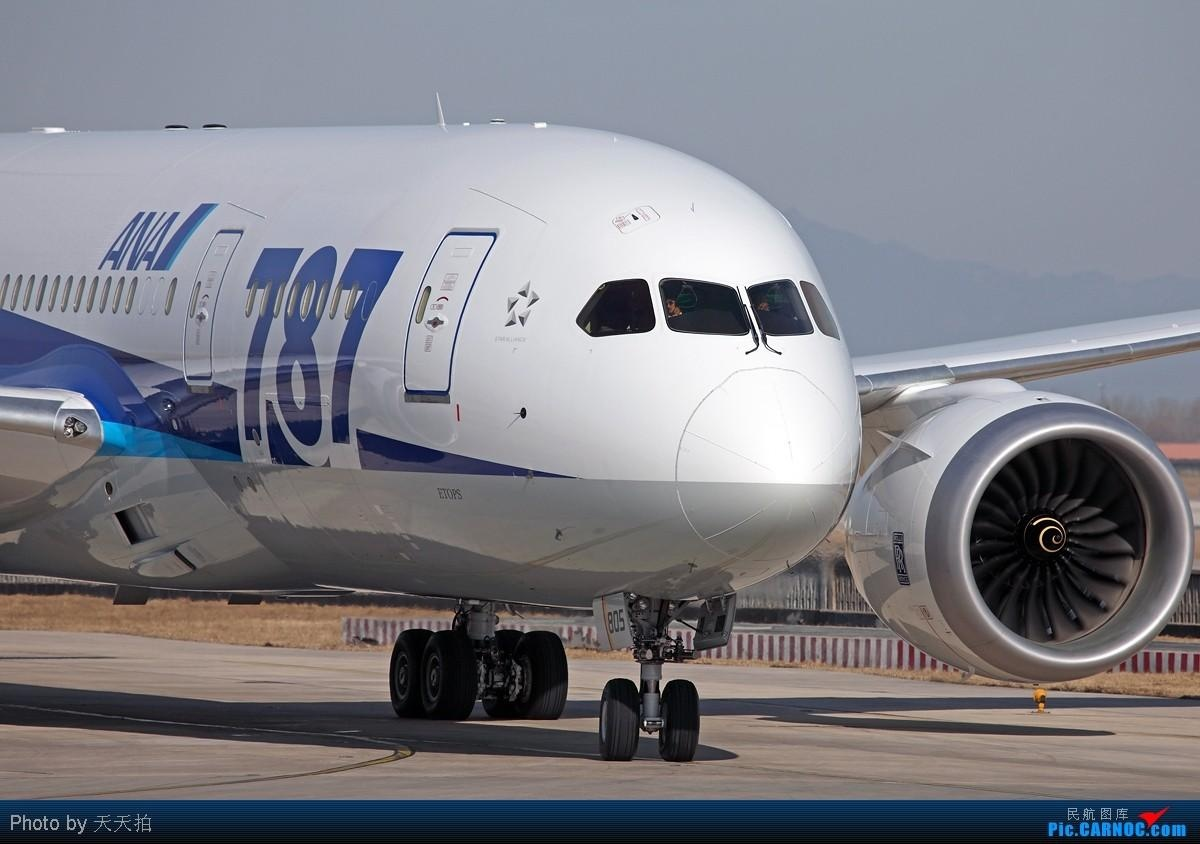airplane: (1, 118, 1188, 752)
